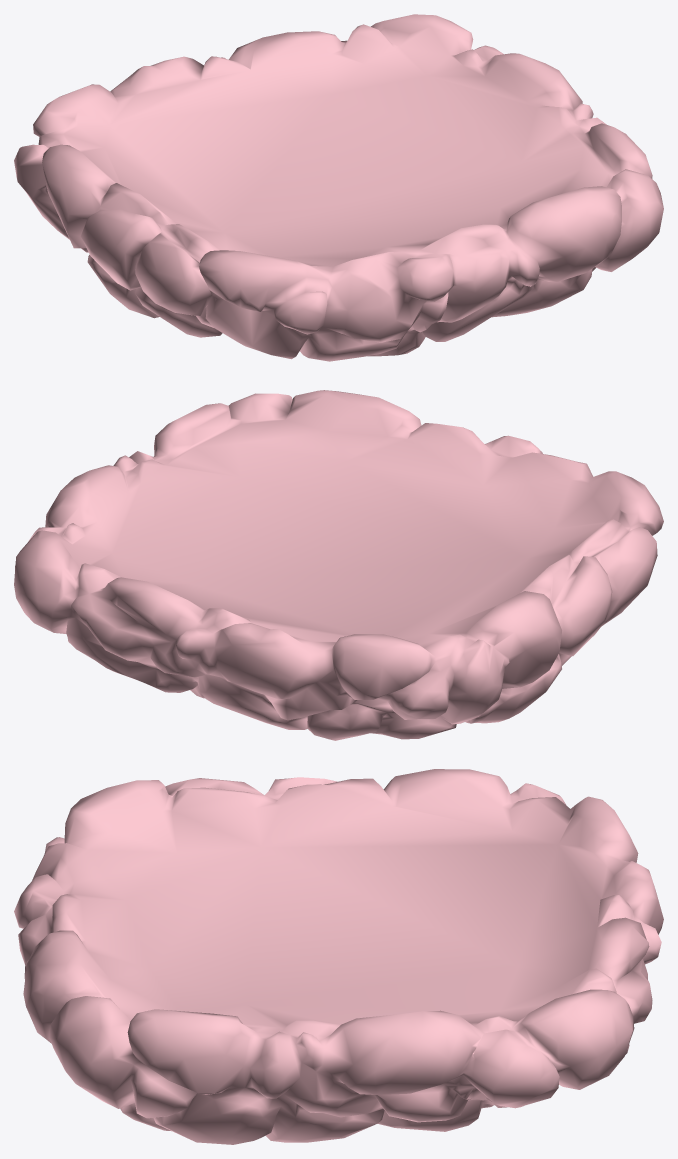
The model's file is island_6_LOD4.fbx.
The picture shows the model from 3 angles, top to bottom: view 1: azimuth 30°, elevation 25°; view 2: azimuth 150°, elevation 25°; view 3: azimuth 270°, elevation 25°; orthographic projection. The views are drawn at different scales.
Parts seen in each view (by area): view 1: island_6_LOD4; view 2: island_6_LOD4; view 3: island_6_LOD4.
Boxes of the visible parts, x1,y1,x2,y2 form: island_6_LOD4: [14, 14, 663, 361]; island_6_LOD4: [14, 390, 663, 740]; island_6_LOD4: [14, 769, 663, 1144].
Size of the model in its own units: 2640 by 757 by 2591.
